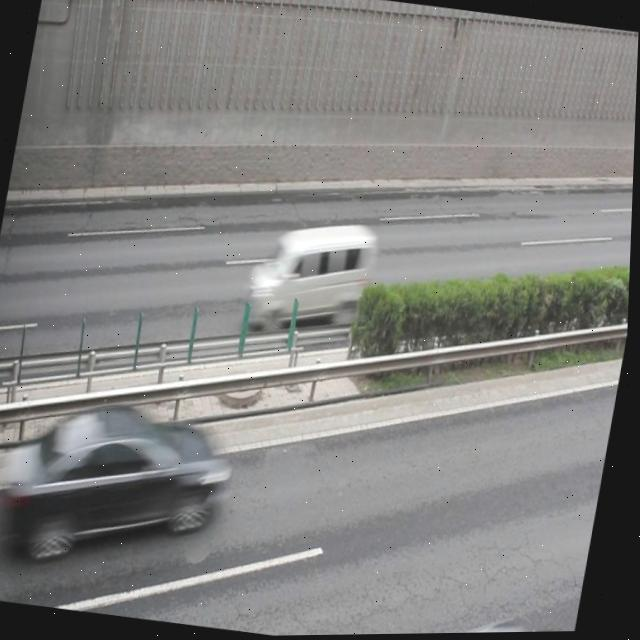car: (18, 392, 237, 581)
truck: (241, 209, 379, 343)
